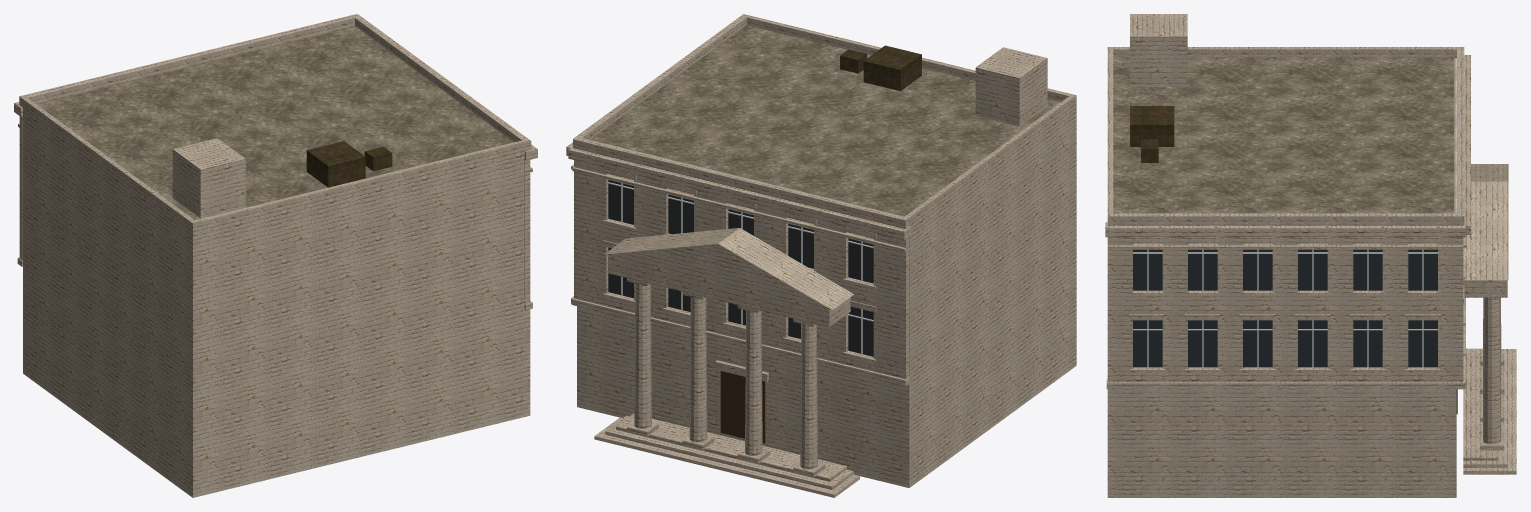
File: bldg_bank_3st.gltf
3 renders of one model, left to right at view 1: azimuth 30°, elevation 25°; view 2: azimuth 150°, elevation 25°; view 3: azimuth 270°, elevation 25°, orthographic. The views are drawn at different scales.
Visible parts, largest first — view 1: bldg_bank_3st; view 2: bldg_bank_3st; view 3: bldg_bank_3st.
Part boxes in pixels (x1=…): bldg_bank_3st: x1=14, y1=14, x2=537, y2=497; bldg_bank_3st: x1=566, y1=14, x2=1076, y2=497; bldg_bank_3st: x1=1105, y1=14, x2=1516, y2=497.
Size of what is drawn, in the model's own units: 18.45 by 16.1 by 18.5.
Materials: 6 (3 with a texture image).
